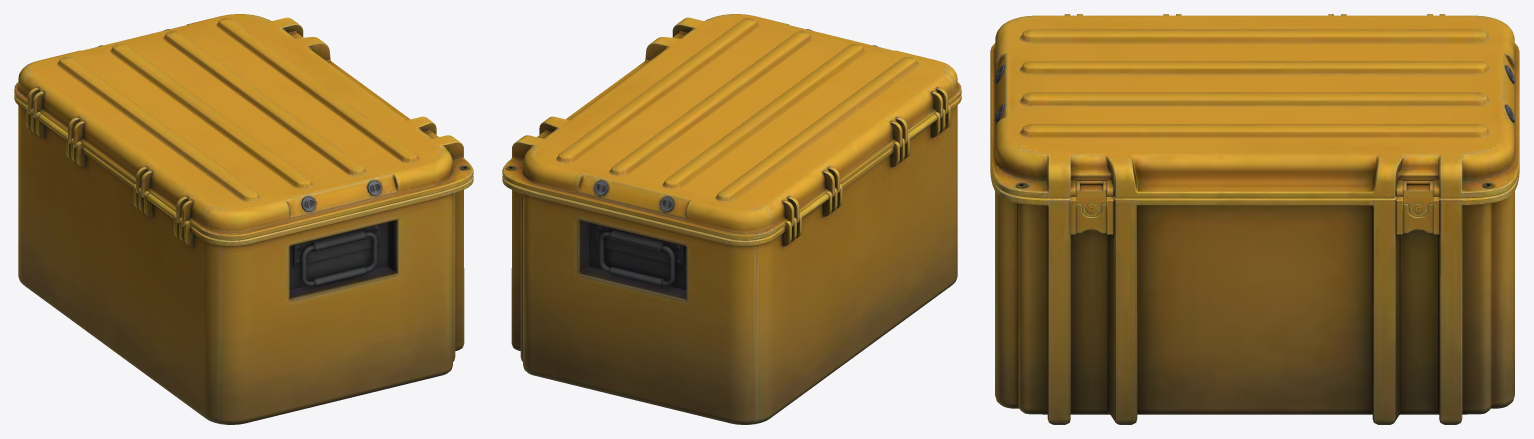
The model's file is csgo_drop_crate_gamma.glb.
The picture shows the model from 3 angles, left to right: view 1: azimuth 30°, elevation 25°; view 2: azimuth 150°, elevation 25°; view 3: azimuth 270°, elevation 25°; orthographic projection. The views are drawn at different scales.
Parts seen in each view (by area): view 1: models\props\crates\csgo_drop_crate_gamma.vmdl_c.csgo_drop_c; view 2: models\props\crates\csgo_drop_crate_gamma.vmdl_c.csgo_drop_c; view 3: models\props\crates\csgo_drop_crate_gamma.vmdl_c.csgo_drop_c.
Boxes of the visible parts, <box> form: models\props\crates\csgo_drop_crate_gamma.vmdl_c.csgo_drop_c: <box>14,14,473,424</box>; models\props\crates\csgo_drop_crate_gamma.vmdl_c.csgo_drop_c: <box>502,14,961,424</box>; models\props\crates\csgo_drop_crate_gamma.vmdl_c.csgo_drop_c: <box>990,14,1519,424</box>.
Size of the model in its own units: 0.8161 by 0.6169 by 1.12.
Materials: 3 (3 with a texture image).
